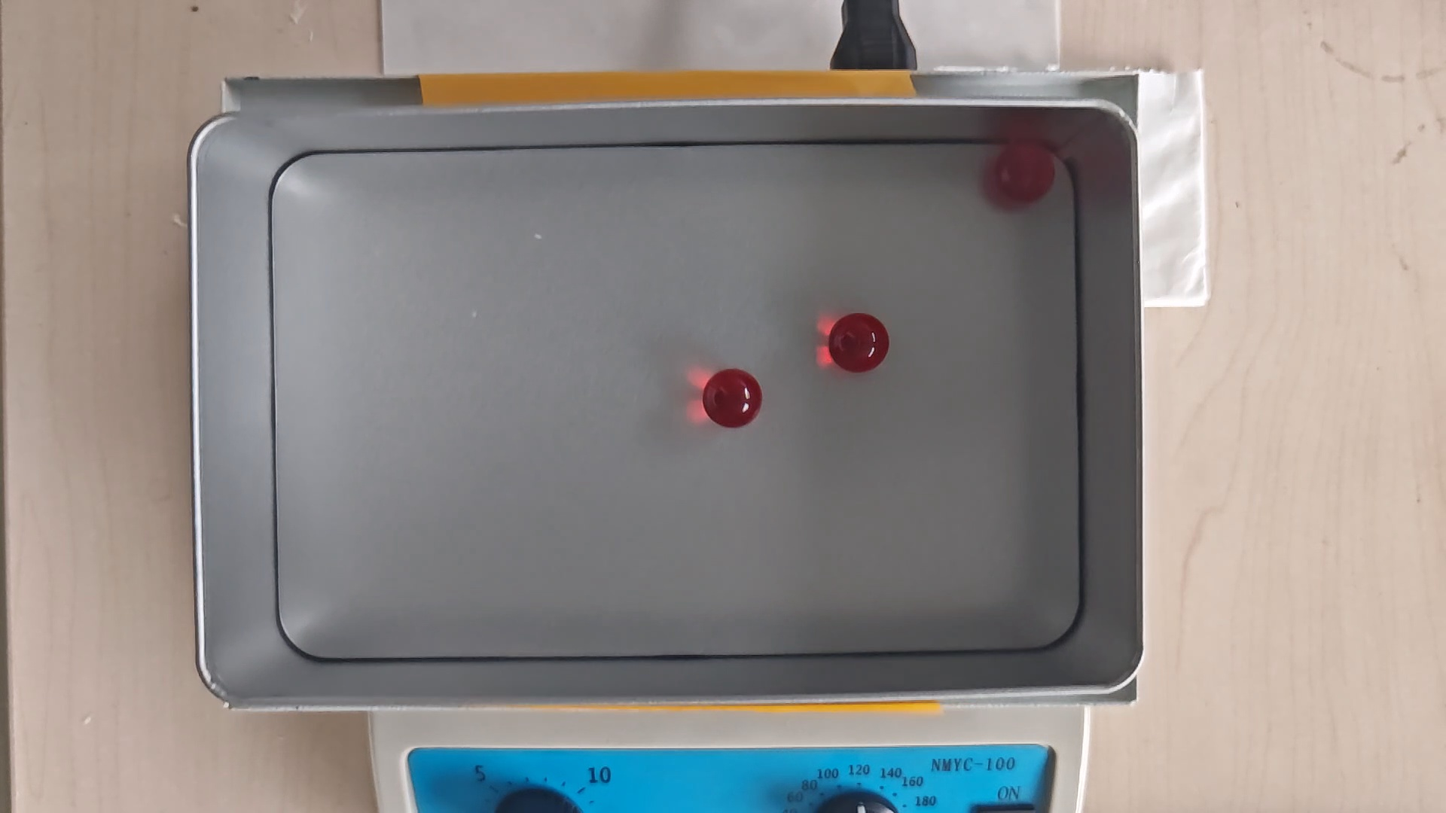ball: (704, 367, 762, 428), (831, 312, 888, 373), (996, 142, 1053, 202)
container: (273, 143, 1080, 657)
